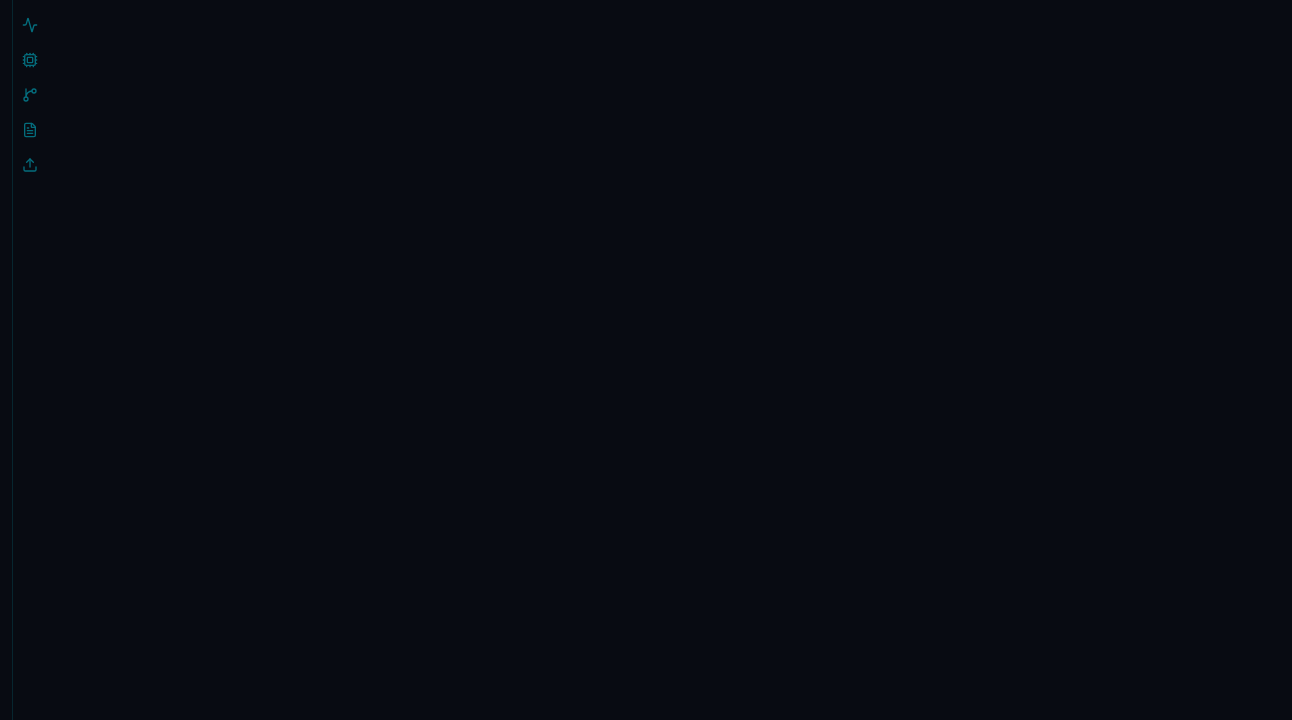
RightPanel insights › converts legacy transcript summaries into readable markdown turns
Click the button named "summary insights" at x=30, y=130, box [13, 112, 48, 147]
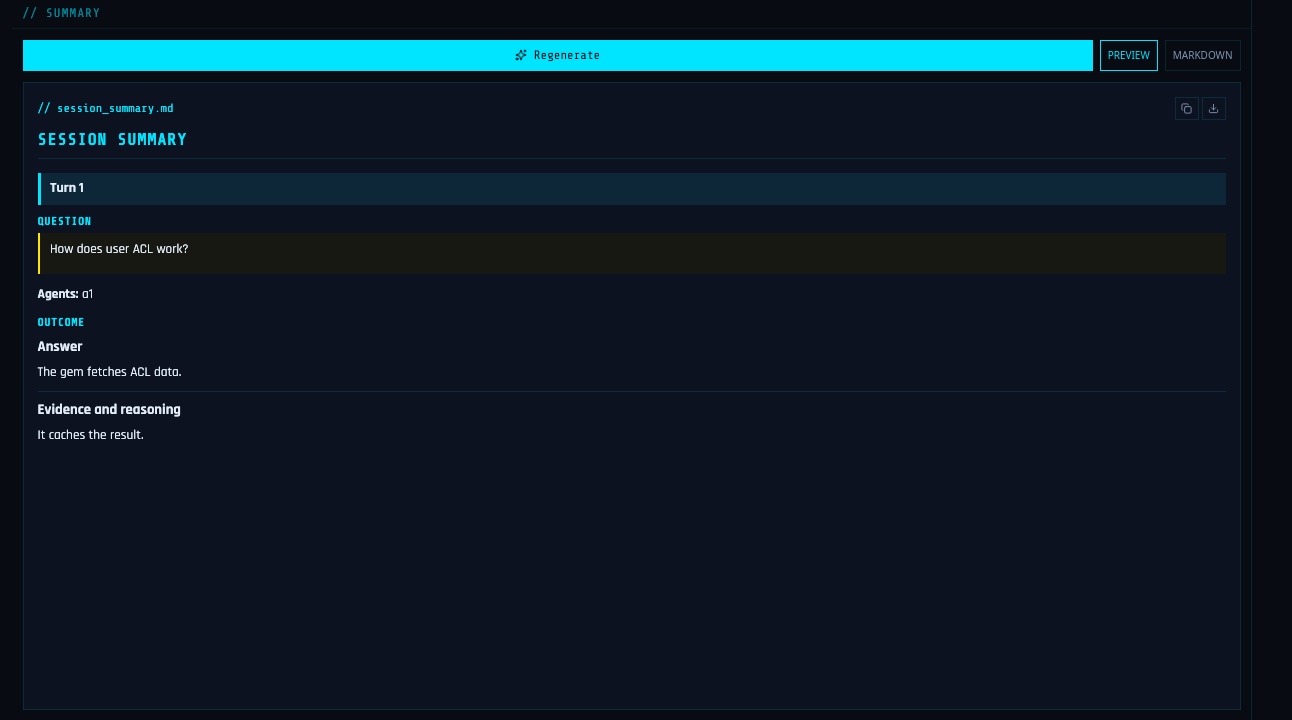
Result: the heading "Session Summary" is shown at [38, 130, 1226, 158]
Result: the heading "Turn 1" is shown at [38, 172, 1226, 205]
Result: the text "How does user ACL work?" is shown at [50, 242, 189, 258]
